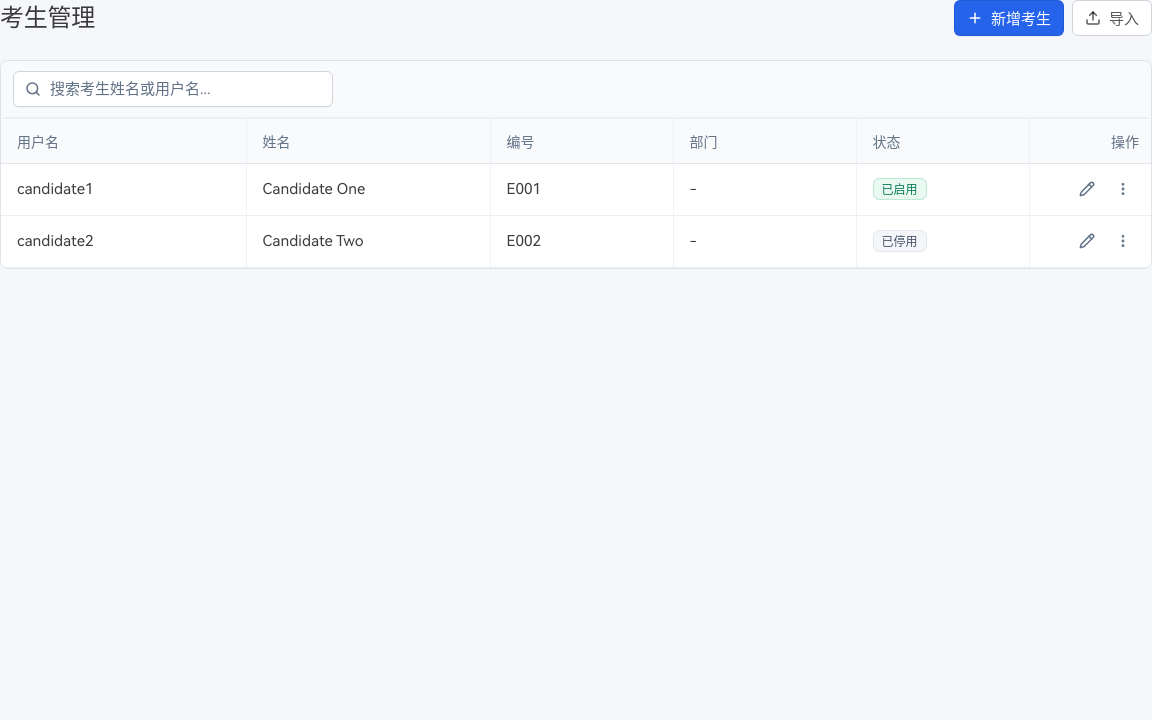
Test: CandidatesPage › shows validation errors for empty fields on create
This screenshot has width=1152, height=720.
Click the button "新增考生".
click(1009, 18)  # box [954, 0, 1064, 36]
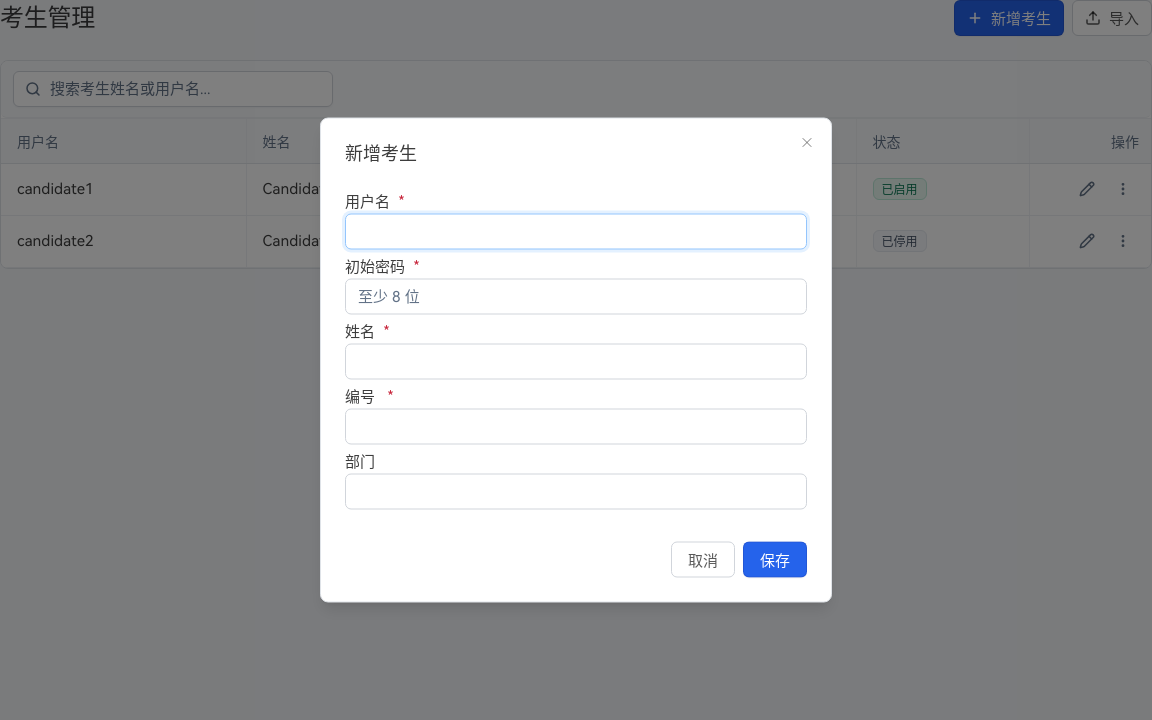
Click the button "保存".
click(775, 560)  # box [743, 542, 807, 578]
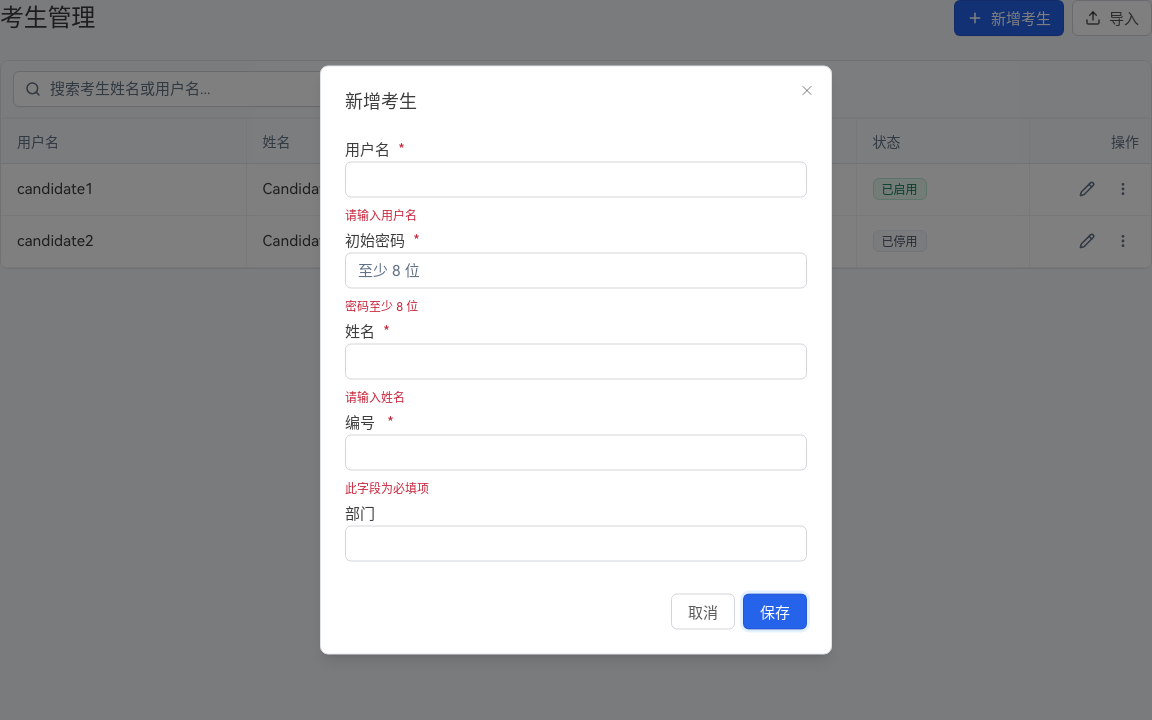
Expected: the text "请输入用户名" is shown, [345, 208, 417, 222]
Expected: the text "请输入姓名" is shown, [345, 390, 405, 404]
Expected: the text "密码至少 8 位" is shown, [345, 300, 418, 314]
